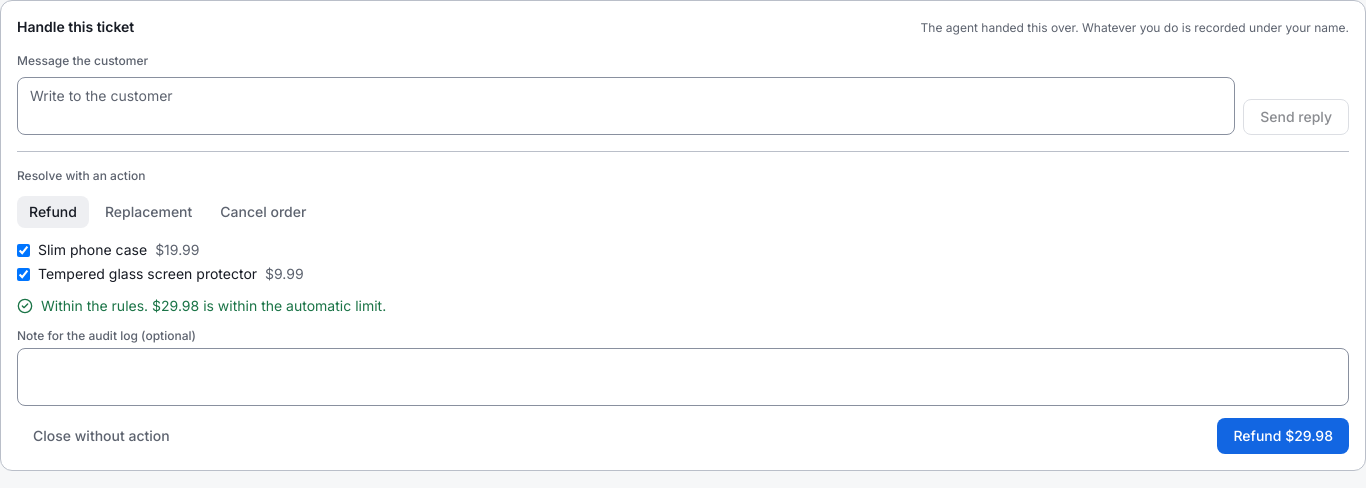
StaffActions › checks just the chosen items
Expected: the button "Refund $29.98" is shown, [1218,418,1349,454]
Click the checkbox labelled "Slim phone case $19.99" at (24, 250), box [17,244,30,256]
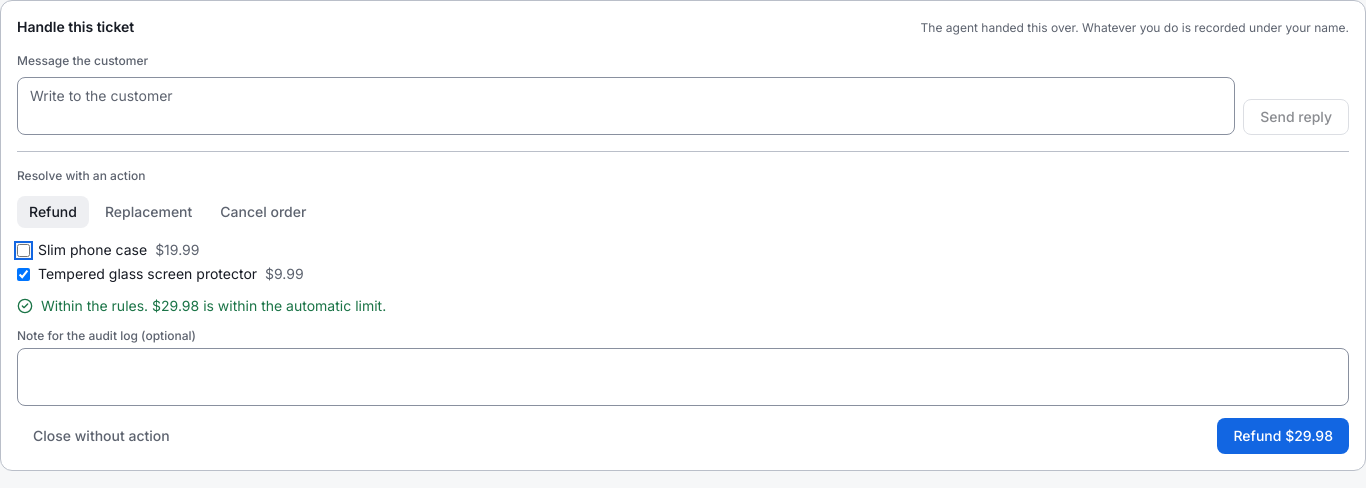
Click the checkbox labelled "Tempered glass screen protector $9.99" at (24, 274), box [17,268,30,280]
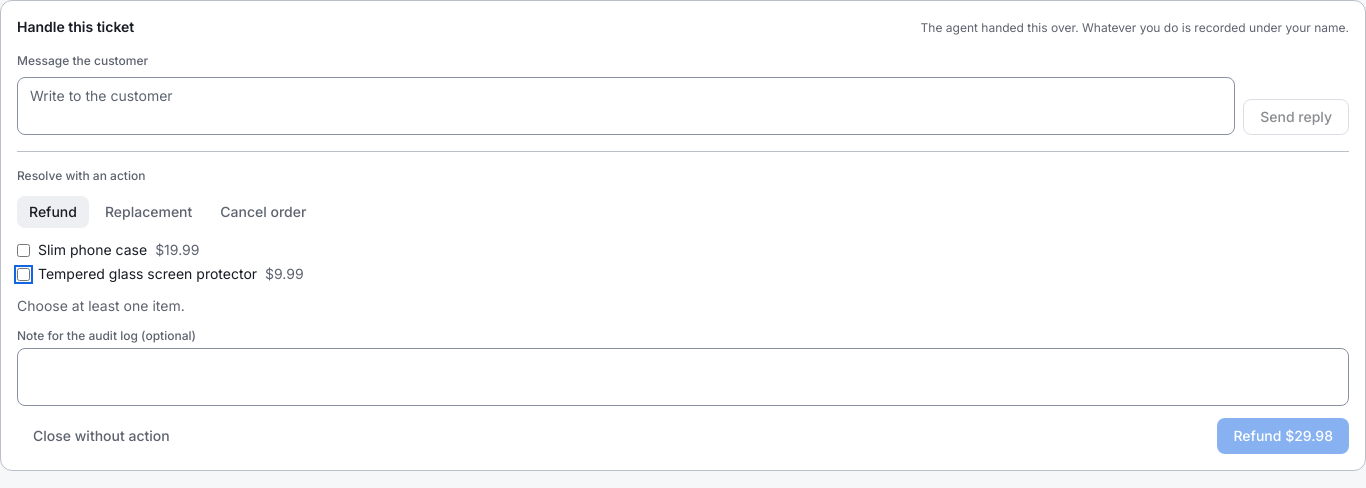
Expected: the text "Choose at least one item." is shown, [17,297,185,314]
